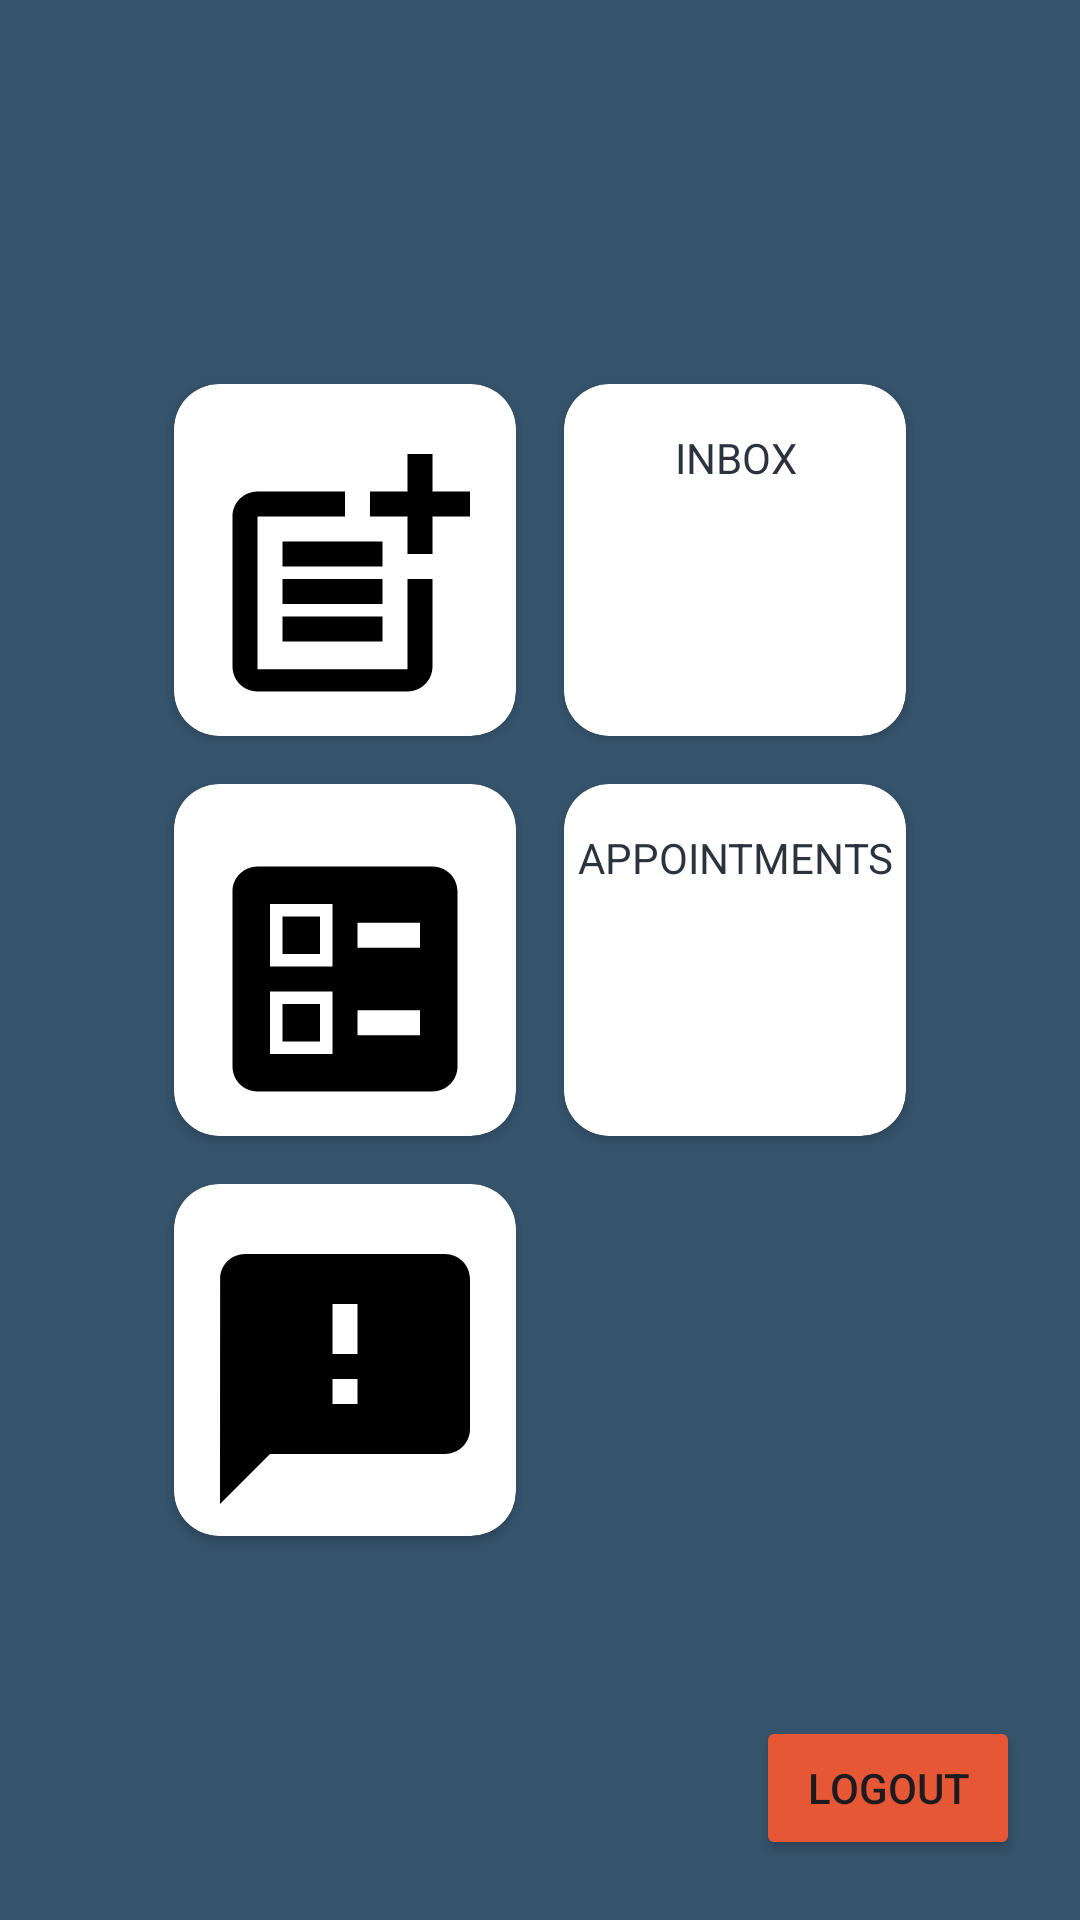

Where icons sit on this 1080px x 1920px app screen, as (x1, y1, x2, y2):
ballot: (232, 866, 458, 1092)
post add: (232, 454, 470, 692)
